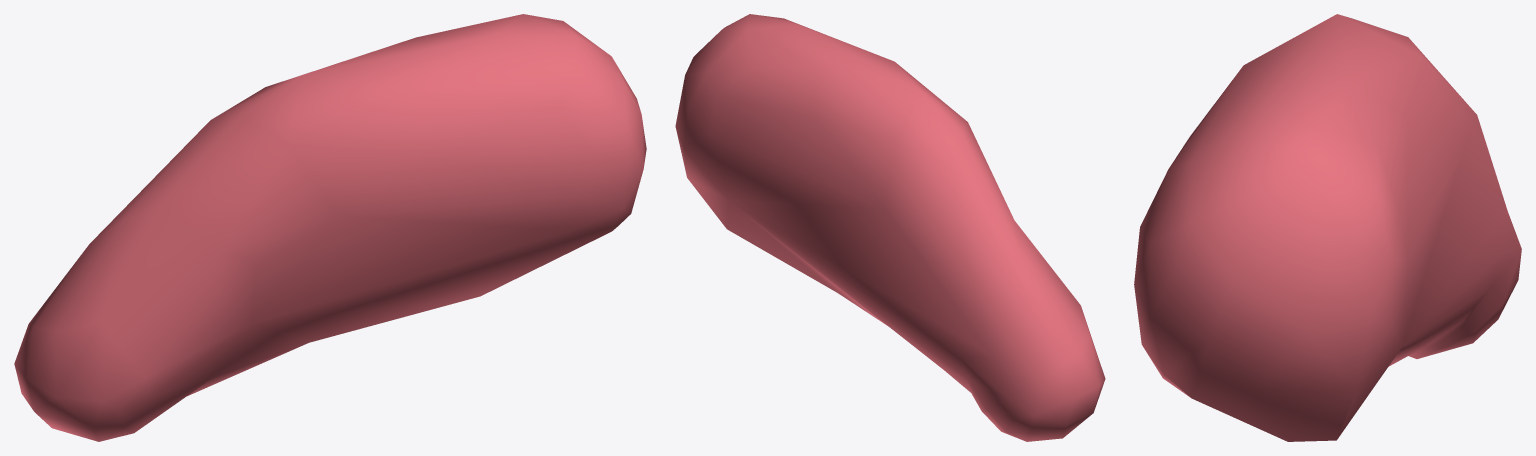
File: fma31529_fj6109.glb
3 renders of one model, left to right at view 1: azimuth 30°, elevation 25°; view 2: azimuth 150°, elevation 25°; view 3: azimuth 270°, elevation 25°, orthographic. The views are drawn at different scales.
Visible parts, largest first — view 1: FMA31529_FJ6109; view 2: FMA31529_FJ6109; view 3: FMA31529_FJ6109.
Part boxes in pixels (<box>): FMA31529_FJ6109: <box>14,14,646,441</box>; FMA31529_FJ6109: <box>675,14,1105,441</box>; FMA31529_FJ6109: <box>1134,14,1521,441</box>.
Bounding box in the file's own units: 0.0275 × 0.0175 × 0.0133.
